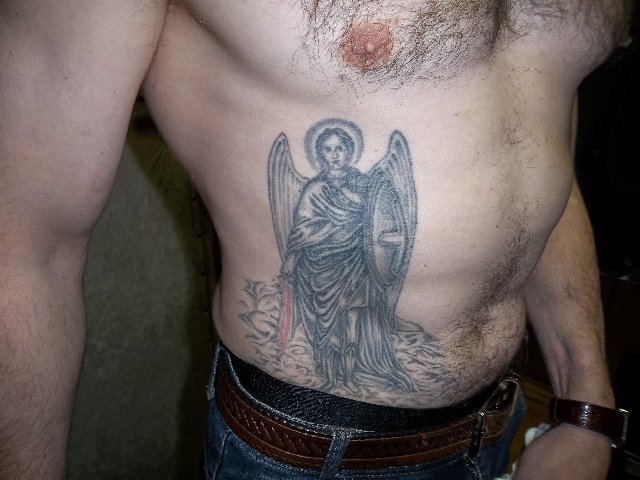tatu1_angel: (247, 113, 429, 398)
